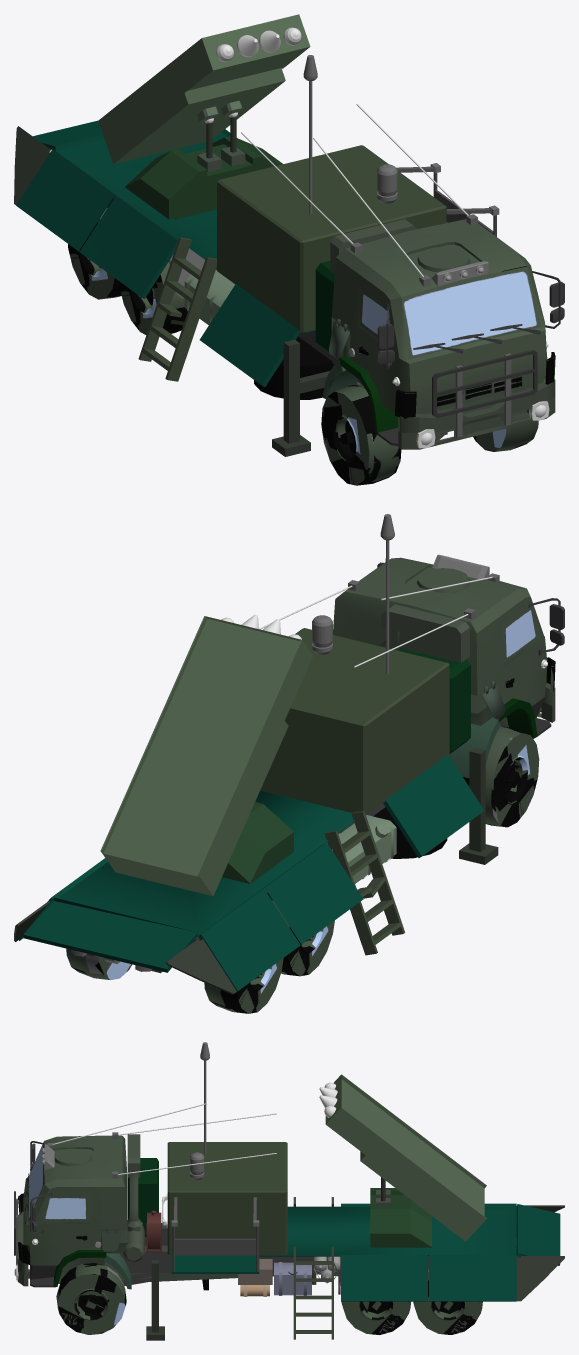
File: only-cornerboard-deployed(green).fbx
3 renders of one model, top to bottom at view 1: azimuth 30°, elevation 25°; view 2: azimuth 150°, elevation 25°; view 3: azimuth 270°, elevation 25°, orthographic. The views are drawn at different scales.
Visible parts, largest first — view 1: Куб.131, Куб.136, Cube, Cube.002, Цилиндр.051, Cube.001, Cube.008, Куб.096, Cube.016, Cube.007, Цилиндр.053, Цилиндр.073 (+16 smaller); view 2: Куб.136, Cube.002, Cube, Куб.131, Цилиндр.051, Cube.008, Цилиндр.059, Cube.001, Цилиндр.001, Cube.015, Cube.016, Cube.011 (+9 smaller); view 3: Куб.136, Куб.131, Cube, Cube.002, Цилиндр.051, Cube.001, Цилиндр.001, Цилиндр.053, Цилиндр.059, Куб.118, Cube.018, Cube.009 (+17 smaller).
Boxes of the visible parts, <box> form: Куб.131: <box>331,219,555,434</box>; Куб.136: <box>16,120,315,387</box>; Cube: <box>217,145,446,332</box>; Cube.002: <box>98,14,310,164</box>; Цилиндр.051: <box>321,384,538,485</box>; Cube.001: <box>125,136,283,219</box>; Cube.008: <box>138,237,216,381</box>; Куб.096: <box>398,379,555,449</box>; Cube.016: <box>272,339,329,456</box>; Cube.007: <box>432,349,537,417</box>; Цилиндр.053: <box>119,262,187,334</box>; Цилиндр.073: <box>254,336,334,399</box>; Куб.136: <box>19,754,484,991</box>; Cube.002: <box>100,616,313,895</box>; Cube: <box>260,628,449,815</box>; Куб.131: <box>333,557,555,754</box>; Цилиндр.051: <box>463,726,539,827</box>; Cube.008: <box>324,810,404,955</box>; Цилиндр.059: <box>380,604,469,662</box>; Cube.001: <box>222,802,293,883</box>; Цилиндр.001: <box>66,948,283,1013</box>; Cube.015: <box>397,648,470,753</box>; Cube.016: <box>459,747,498,864</box>; Cube.011: <box>165,939,236,994</box>; Куб.136: <box>171,1203,560,1301</box>; Куб.131: <box>18,1135,127,1283</box>; Cube: <box>167,1142,287,1255</box>; Cube.002: <box>325,1074,486,1241</box>; Цилиндр.051: <box>56,1263,126,1334</box>; Cube.001: <box>370,1188,431,1247</box>; Цилиндр.001: <box>413,1269,482,1334</box>; Цилиндр.053: <box>341,1301,410,1334</box>; Цилиндр.059: <box>123,1134,144,1262</box>; Куб.118: <box>120,1223,520,1285</box>; Cube.018: <box>175,1238,256,1255</box>; Cube.009: <box>293,1246,333,1339</box>.
Size of the model in its own units: 732 by 1057 by 2029.
Materials: 67 (5 with a texture image).
